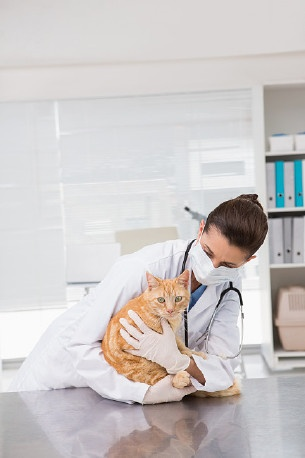Mask: (191, 237, 242, 288)
